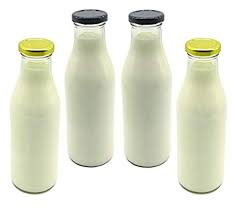milk: (61, 7, 117, 164), (8, 34, 61, 190), (125, 5, 170, 171), (180, 37, 228, 188)
